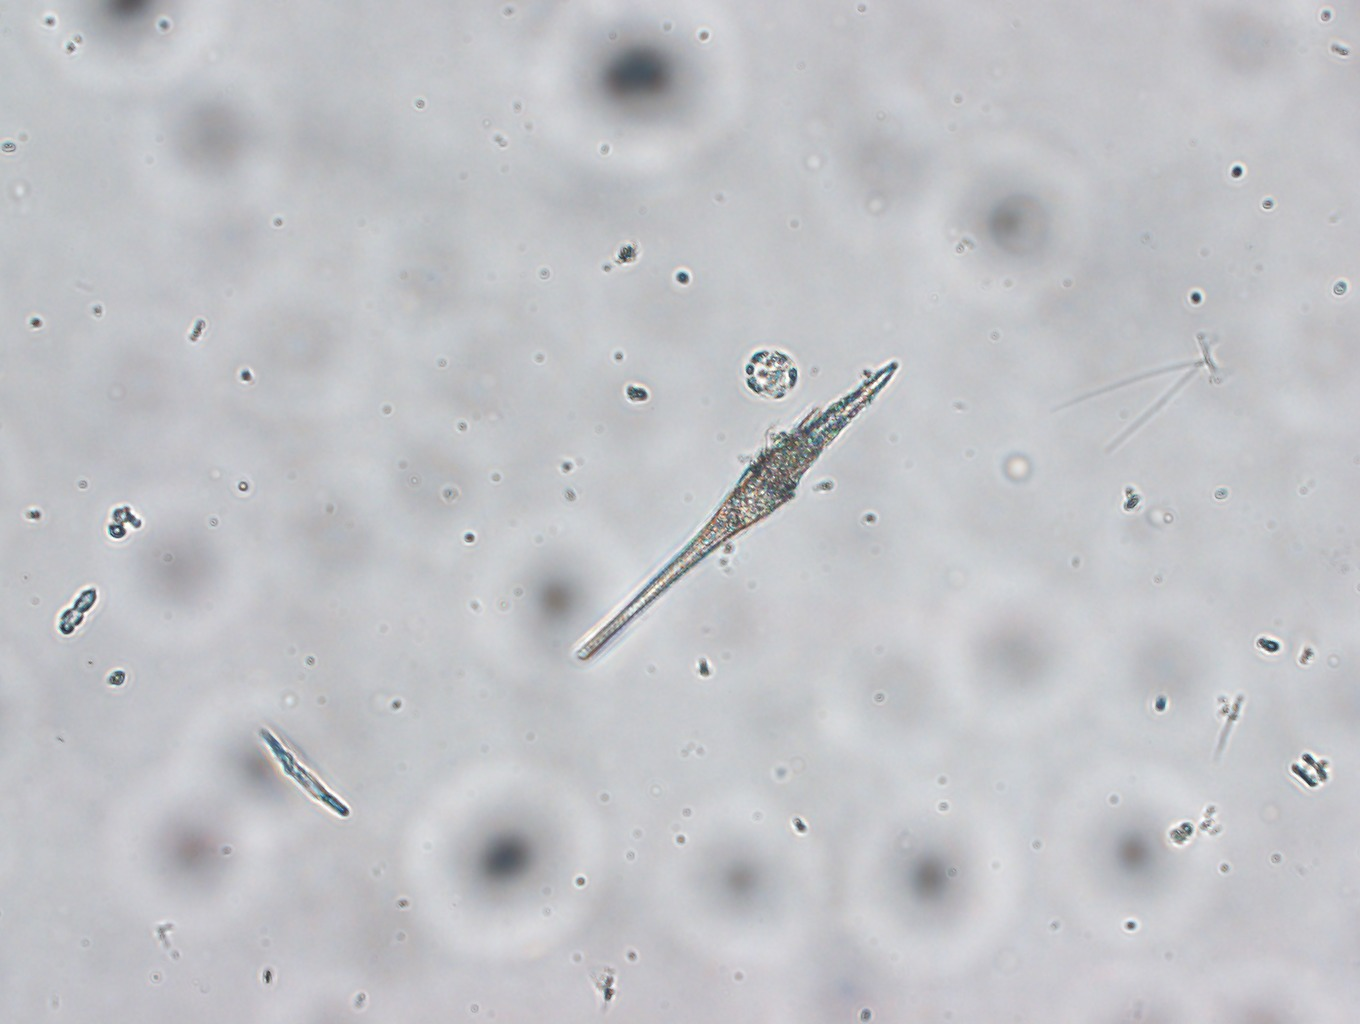ceratium fusus: (568, 354, 906, 669)
